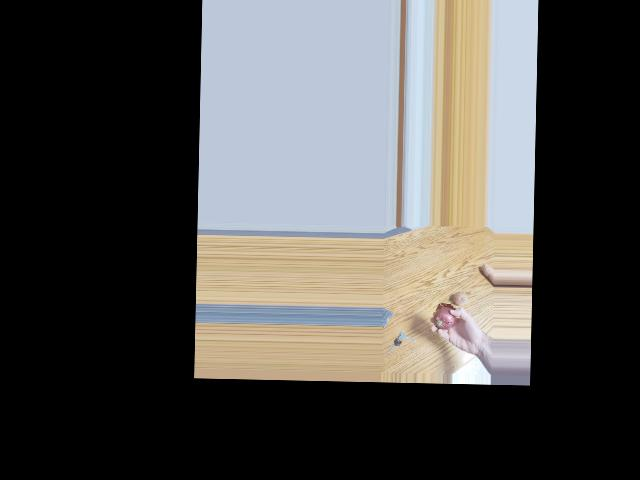onion: (454, 289, 469, 306)
